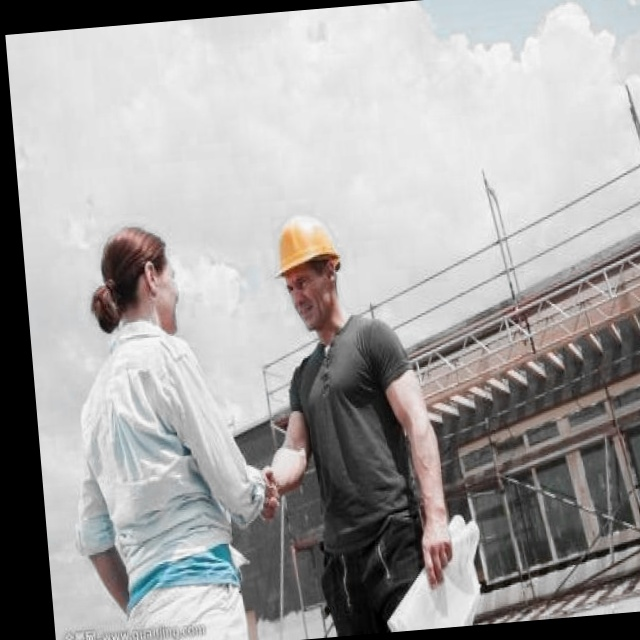Con_Casco: (274, 210, 346, 317)
Sin_Casco_Mascarrilla: (89, 218, 191, 339)
